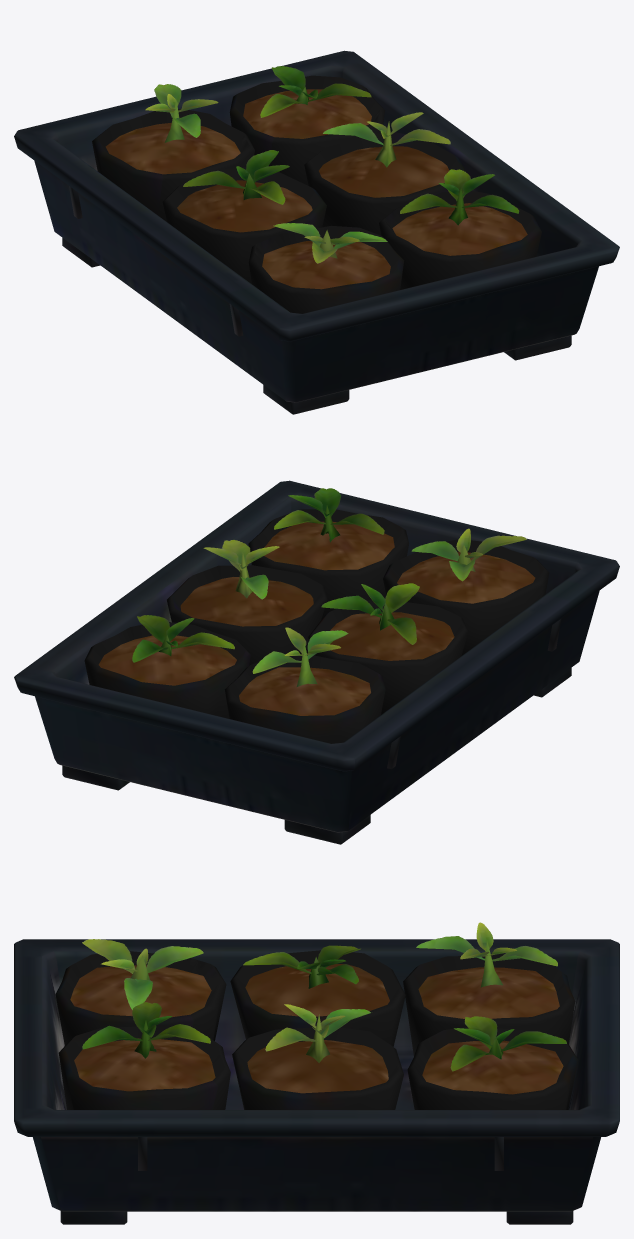
3 renders of one model, top to bottom at view 1: azimuth 30°, elevation 25°; view 2: azimuth 150°, elevation 25°; view 3: azimuth 270°, elevation 25°, orthographic. The views are drawn at different scales.
Size of the model in its own units: 6.44 by 3.61 by 8.94.
Materials: 1 (1 with a texture image).
